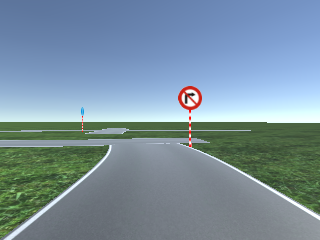-5: (1, 195, 320, 238)
NoRight: (178, 86, 202, 110)
